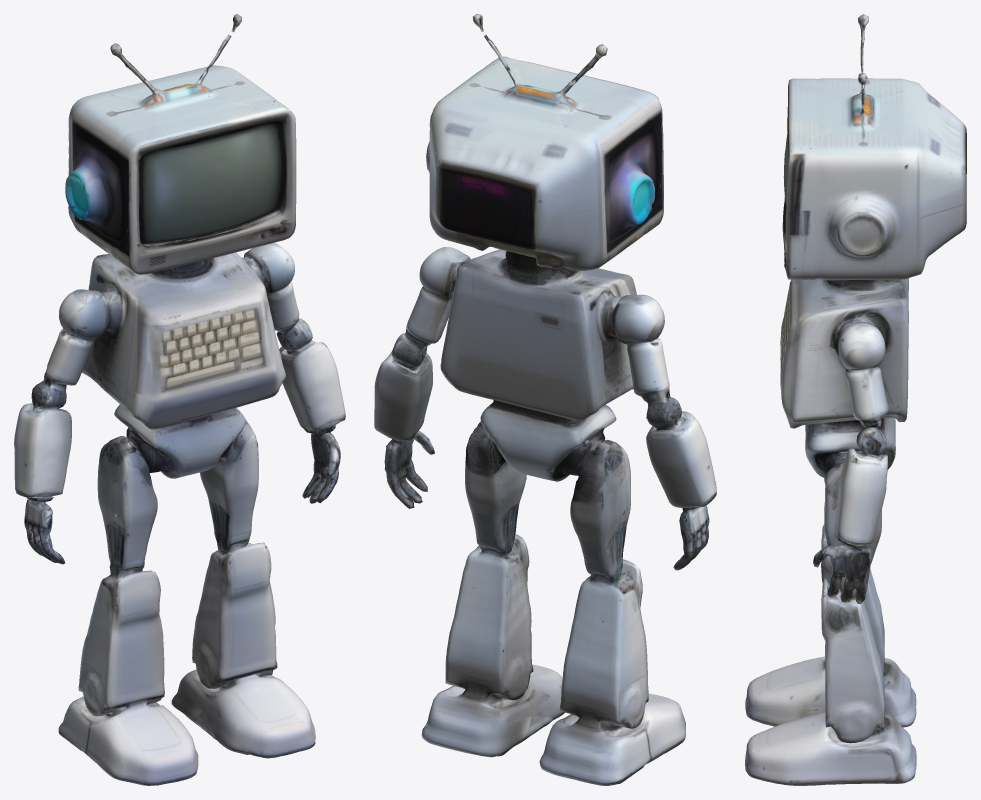
The model's file is A_humanoid_robot_with_0906205113_refine.glb.
3 views of the same model, side by side, from view 1: azimuth 30°, elevation 25°; view 2: azimuth 150°, elevation 25°; view 3: azimuth 270°, elevation 25° (orthographic). The views are drawn at different scales.
Bounding box in the file's own units: 0.9709 × 2 × 0.5789.
Materials: 1 (1 with a texture image).
